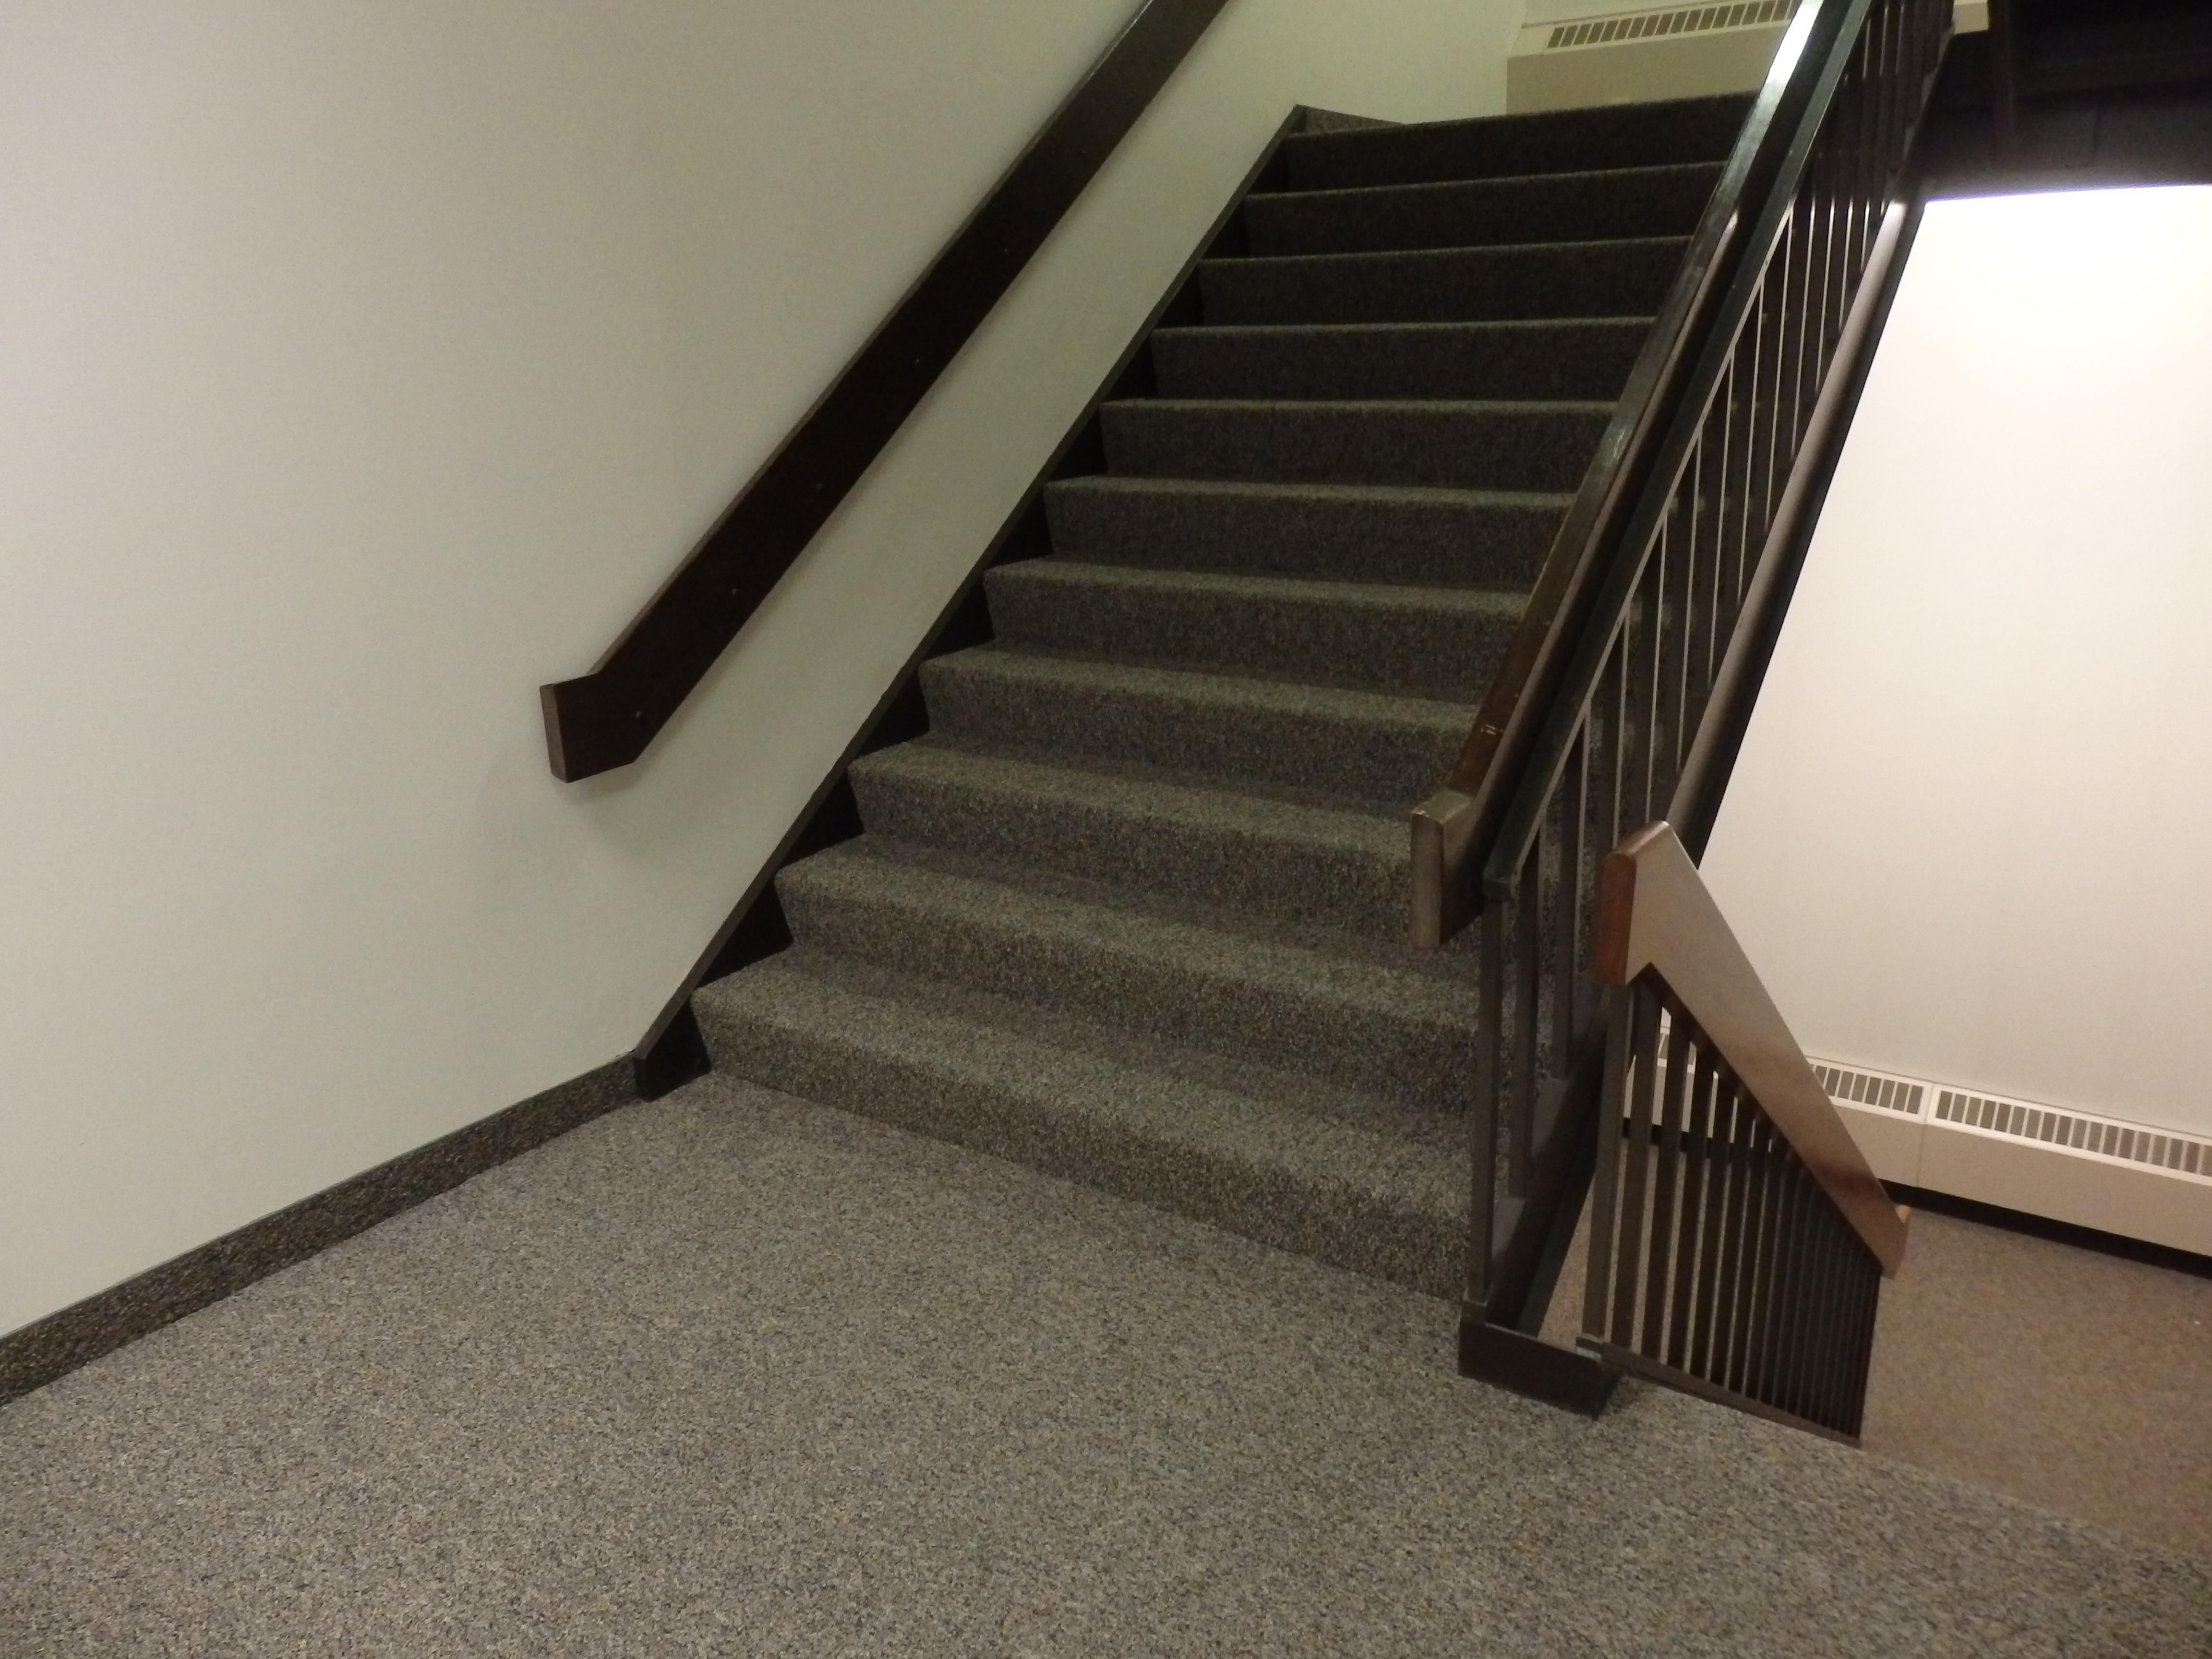stairs_up: (685, 73, 1855, 1279)
